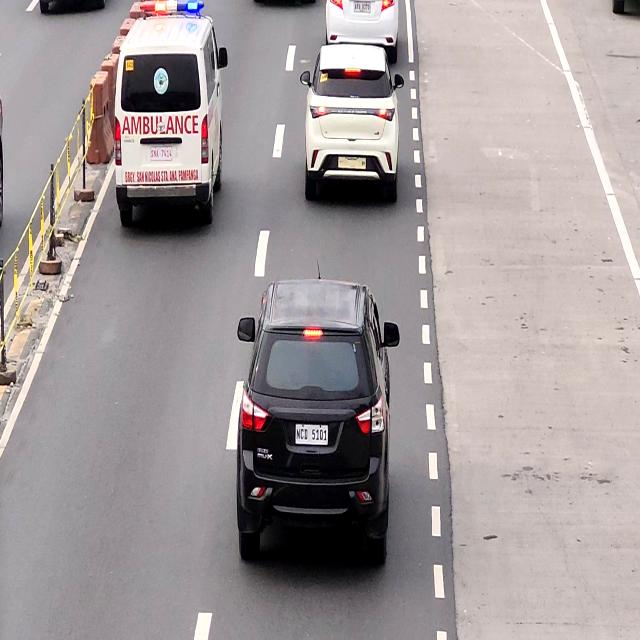Car: (238, 282, 391, 576), (118, 11, 222, 223), (302, 45, 400, 206), (324, 0, 403, 44)
License-Plate: (293, 422, 331, 450), (335, 156, 368, 170), (149, 146, 173, 161), (352, 2, 372, 14)
